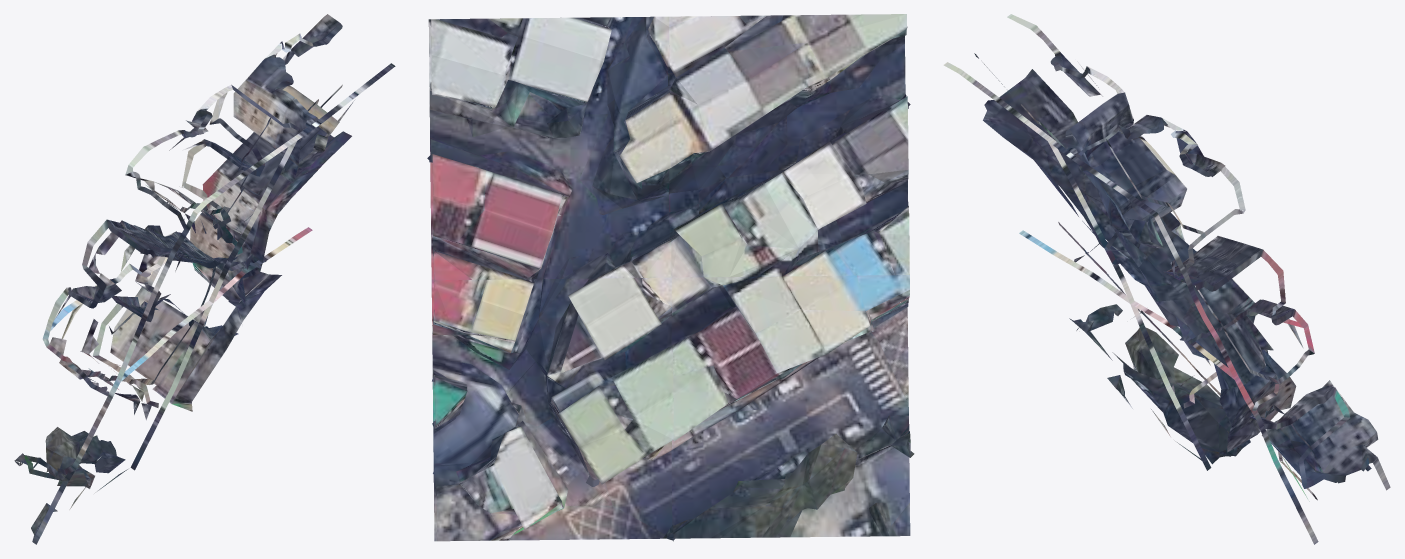
3 renders of one model, left to right at view 1: azimuth 30°, elevation 25°; view 2: azimuth 150°, elevation 25°; view 3: azimuth 270°, elevation 25°, orthographic. The views are drawn at different scales.
Bounding box in the file's own units: 78.18 × 76.27 × 75.62.
Materials: 1 (1 with a texture image).
